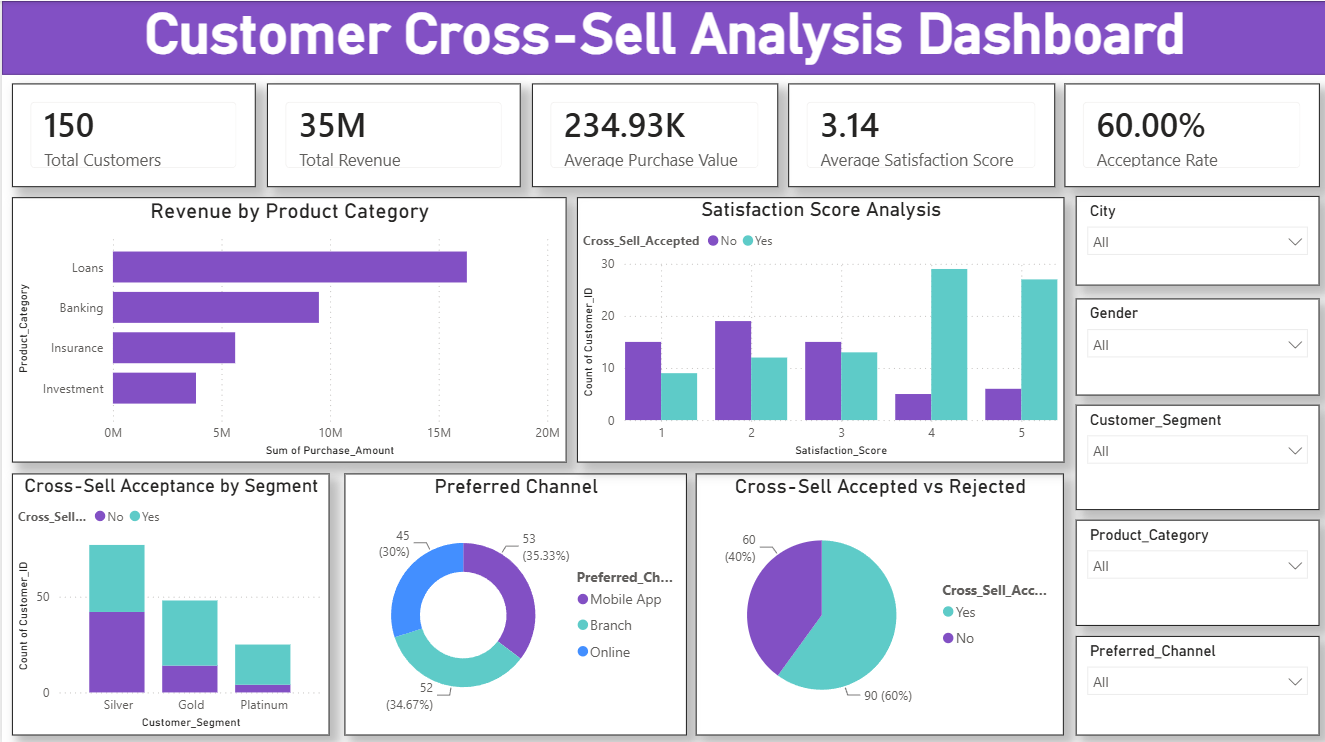

The page's visual inventory and layout, read from the dashboard file:
{"tool":"powerbi","page":{"name":"Dashboard","canvas":[1280,720],"ordinal":0},"visuals":[{"type":"shape","box":[0,0,1280.5,71.3],"z":0},{"type":"textbox","title":"Customer Cross-Sell Analysis Dashboard","box":[0,0,1280.3,70.9],"z":1000},{"type":"cardVisual","title":"Total Customers","fields":{"Data":["Count(Customer_dataset_Cleaned.Customer_ID)"]},"box":[10,80,235,100],"z":2000},{"type":"cardVisual","fields":{"Data":["Sum(Customer_dataset_Cleaned.Purchase_Amount)"]},"box":[256.2,80,245,100],"z":3000},{"type":"cardVisual","fields":{"Data":["Avg(Customer_dataset_Cleaned.Purchase_Amount)"]},"box":[511.2,80,237.5,100],"z":4000},{"type":"cardVisual","fields":{"Data":["Avg(Customer_dataset_Cleaned.Satisfaction_Score)"]},"box":[758.8,80,257.5,100],"z":5000},{"type":"cardVisual","fields":{"Data":["Customer_dataset_Cleaned.Acceptance Rate"]},"box":[1025,80,246.2,100],"z":6000},{"type":"clusteredBarChart","title":"Revenue by Product Category","fields":{"Category":["Customer_dataset_Cleaned.Product_Category"],"Y":["Sum(Customer_dataset_Cleaned.Purchase_Amount)"]},"box":[10,190,535,256.2],"z":7000},{"type":"columnChart","title":"Cross-Sell Acceptance by Segment","fields":{"Category":["Customer_dataset_Cleaned.Customer_Segment"],"Y":["CountNonNull(Customer_dataset_Cleaned.Customer_ID)"],"Series":["Customer_dataset_Cleaned.Cross_Sell_Accepted"]},"box":[10,456.2,306.2,252.5],"z":8000},{"type":"donutChart","title":"Preferred Channel","fields":{"Category":["Customer_dataset_Cleaned.Preferred_Channel"],"Y":["CountNonNull(Customer_dataset_Cleaned.Customer_ID)"]},"box":[330,456.2,330,252.5],"z":10000},{"type":"pieChart","title":"Cross-Sell Accepted vs Rejected","fields":{"Category":["Customer_dataset_Cleaned.Cross_Sell_Accepted"],"Y":["CountNonNull(Customer_dataset_Cleaned.Customer_ID)"]},"box":[670,456.2,355,252.5],"z":11000},{"type":"clusteredColumnChart","title":"Satisfaction Score Analysis","fields":{"Category":["Customer_dataset_Cleaned.Satisfaction_Score"],"Y":["CountNonNull(Customer_dataset_Cleaned.Customer_ID)"],"Series":["Customer_dataset_Cleaned.Cross_Sell_Accepted"]},"box":[555,190,470,256.2],"z":12000},{"type":"slicer","fields":{"Values":["Customer_dataset_Cleaned.City"]},"box":[1036.2,188.8,235,86.2],"z":13000},{"type":"slicer","fields":{"Values":["Customer_dataset_Cleaned.Gender"]},"box":[1036.2,287.5,235,93.8],"z":14000},{"type":"slicer","fields":{"Values":["Customer_dataset_Cleaned.Customer_Segment"]},"box":[1036.2,390,235,101.2],"z":15000},{"type":"slicer","fields":{"Values":["Customer_dataset_Cleaned.Product_Category"]},"box":[1036.2,501.2,235,102.5],"z":16000},{"type":"slicer","fields":{"Values":["Customer_dataset_Cleaned.Preferred_Channel"]},"box":[1036.2,612.5,235,96.2],"z":17000}]}

Visuals, with their boxes in screenshot pixels (x1, y1, x2, y2), scaled from the page's 1280x720 canvas onto the 1325x742 screenshot:
shape: 0/0/1324/73
"Customer Cross-Sell Analysis Dashboard" textbox: 0/0/1324/73
"Total Customers" cardVisual: 10/82/254/185
cardVisual - Sum(Customer_dataset_Cleaned.Purchase_Amount): 265/82/519/185
cardVisual - Avg(Customer_dataset_Cleaned.Purchase_Amount): 529/82/775/185
cardVisual - Avg(Customer_dataset_Cleaned.Satisfaction_Score): 785/82/1052/185
cardVisual - Customer_dataset_Cleaned.Acceptance Rate: 1061/82/1316/185
"Revenue by Product Category" clusteredBarChart: 10/196/564/460
"Cross-Sell Acceptance by Segment" columnChart: 10/470/327/730
"Preferred Channel" donutChart: 342/470/683/730
"Cross-Sell Accepted vs Rejected" pieChart: 694/470/1061/730
"Satisfaction Score Analysis" clusteredColumnChart: 575/196/1061/460
slicer - Customer_dataset_Cleaned.City: 1073/195/1316/283
slicer - Customer_dataset_Cleaned.Gender: 1073/296/1316/393
slicer - Customer_dataset_Cleaned.Customer_Segment: 1073/402/1316/506
slicer - Customer_dataset_Cleaned.Product_Category: 1073/517/1316/622
slicer - Customer_dataset_Cleaned.Preferred_Channel: 1073/631/1316/730
